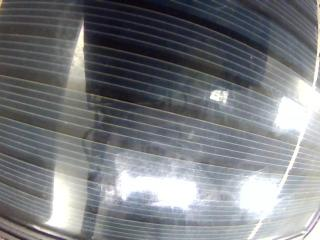solarboard: (0, 0, 320, 240)
